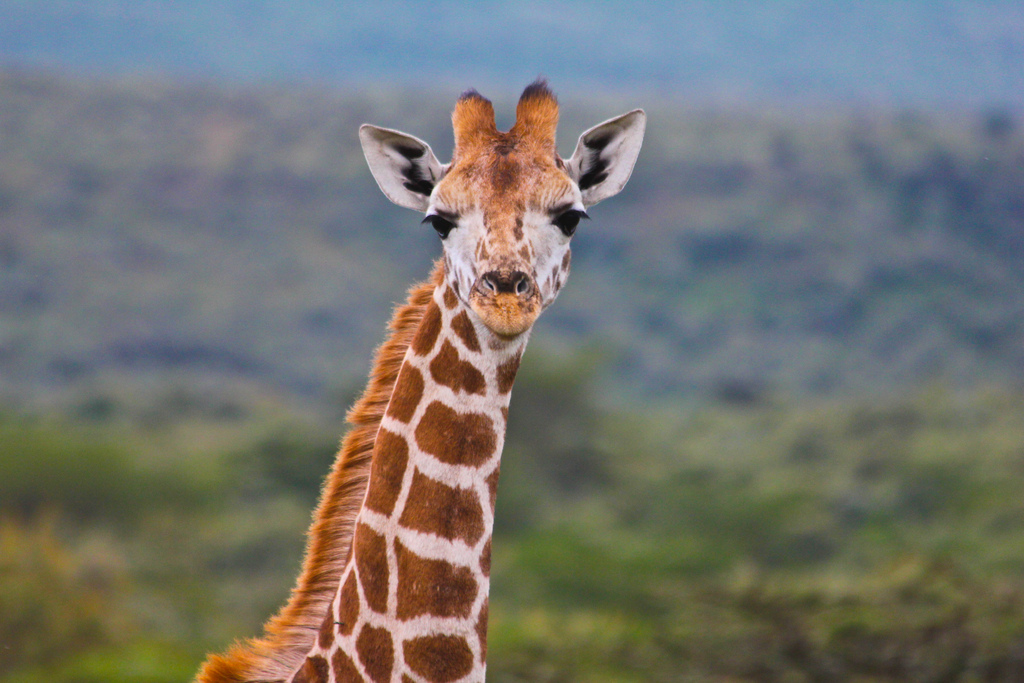giraffe: (253, 87, 690, 668)
